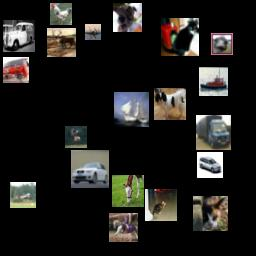airplane: (10, 182, 36, 208), (85, 24, 101, 40)
automobile: (71, 150, 109, 188), (3, 20, 35, 52), (197, 152, 223, 178)
bird: (50, 3, 72, 25), (211, 33, 233, 55)
cat: (161, 18, 199, 56), (193, 196, 228, 231), (145, 189, 177, 221)
deer: (47, 28, 76, 57), (65, 126, 87, 148)
dog: (154, 88, 186, 120), (113, 3, 142, 32)
ship: (114, 92, 149, 127), (199, 67, 228, 96)
truck: (196, 115, 231, 150), (3, 57, 29, 83)
